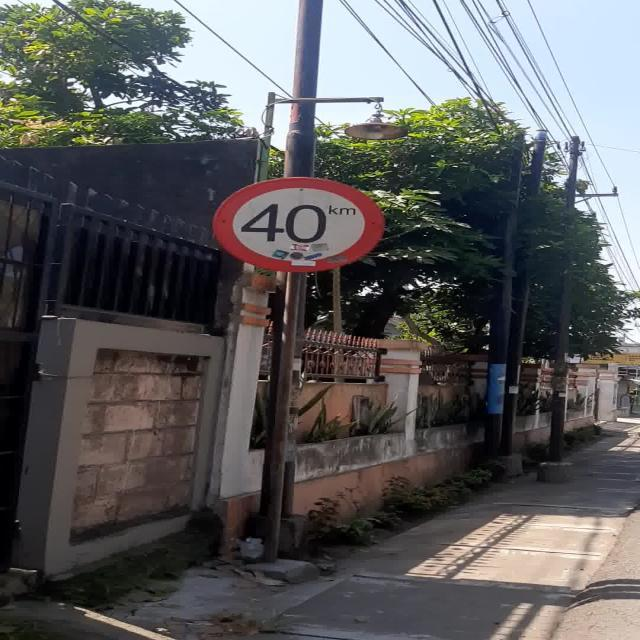Kecepatan Maks. 40 km: (212, 176, 386, 272)
